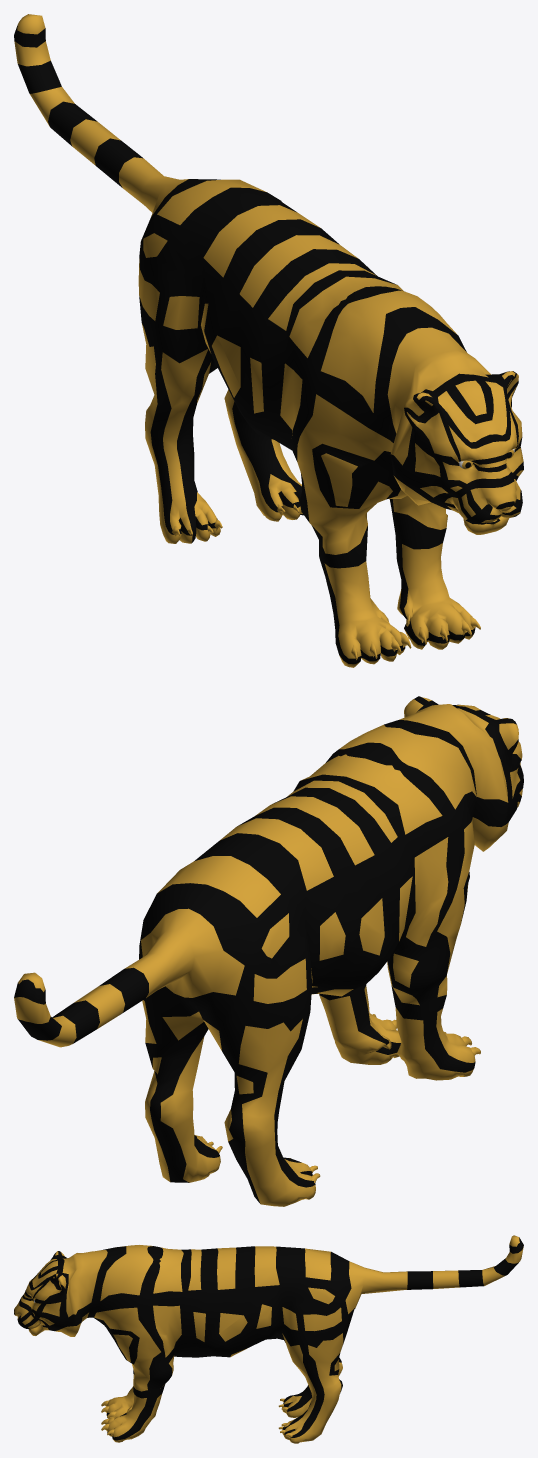
File: tyger_siberian_01.fbx
3 views of the same model, one above another, from view 1: azimuth 30°, elevation 25°; view 2: azimuth 150°, elevation 25°; view 3: azimuth 270°, elevation 25° (orthographic). The views are drawn at different scales.
Parts seen in each view (by area): view 1: Plane.002; view 2: Plane.002; view 3: Plane.002.
Boxes of the visible parts, x1=… form: Plane.002: x1=14, y1=14, x2=523, y2=667; Plane.002: x1=14, y1=696, x2=523, y2=1206; Plane.002: x1=14, y1=1235, x2=523, y2=1443.
Bounding box in the file's own units: 5463 × 12034 × 29148.
